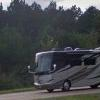Bus: (25, 42, 99, 93)
